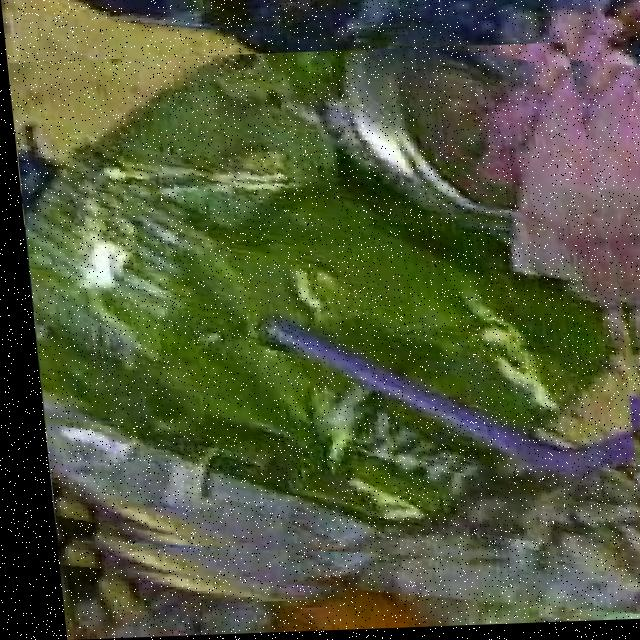litter: (19, 51, 619, 559)
